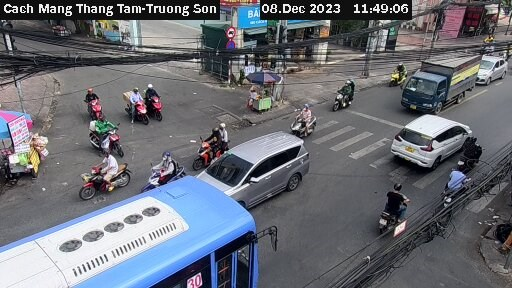bus: (3, 171, 263, 288)
car: (193, 130, 312, 200), (390, 113, 474, 166), (475, 51, 510, 84)
motorbike: (67, 154, 134, 192), (370, 183, 416, 236), (188, 124, 245, 165), (81, 114, 128, 152), (280, 105, 329, 140), (136, 157, 189, 185), (438, 166, 477, 202), (141, 86, 182, 119), (77, 90, 120, 121), (119, 86, 155, 123), (326, 78, 362, 109), (458, 135, 486, 166), (383, 59, 412, 85)
truck: (397, 50, 480, 115)
